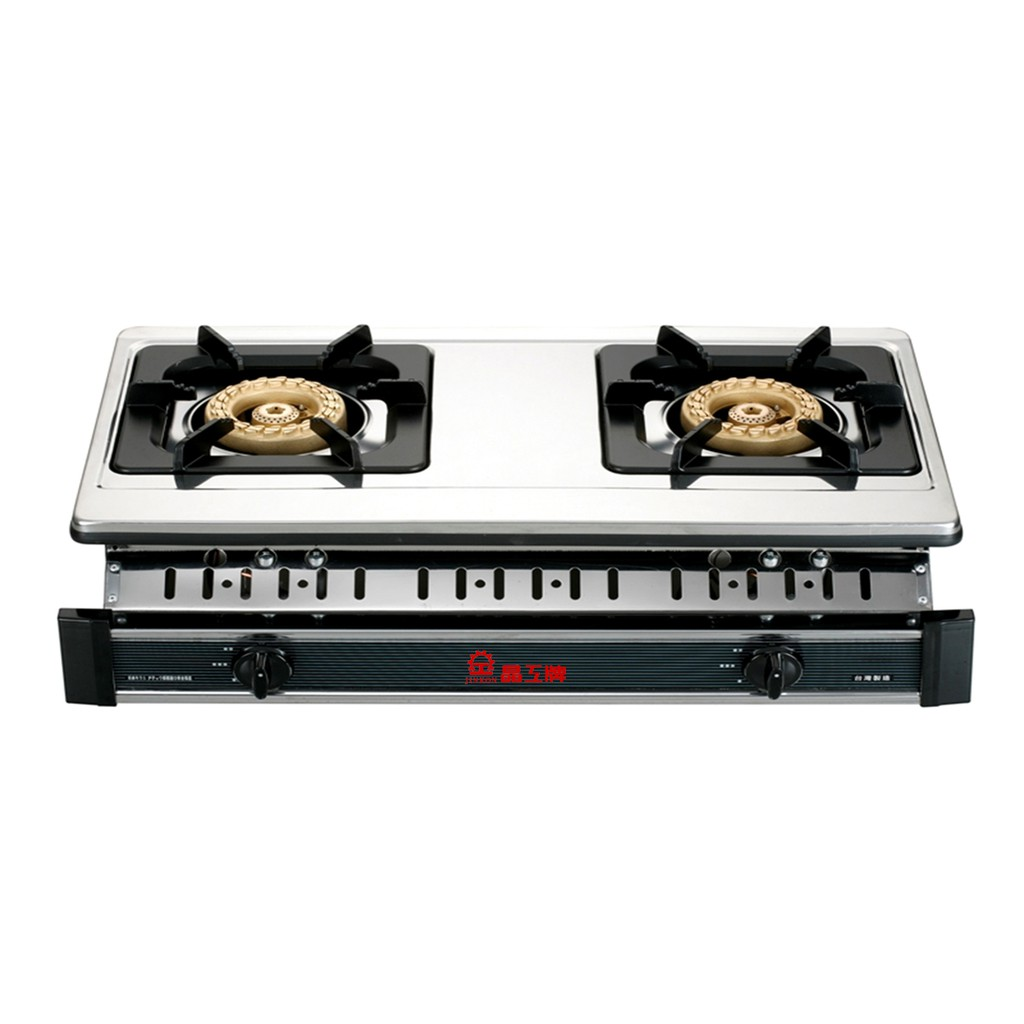gasoven: (56, 318, 989, 722)
